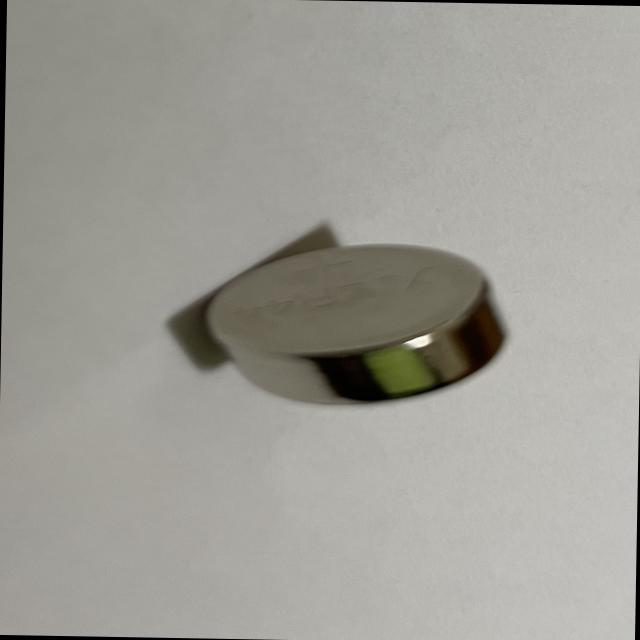COIN: (201, 239, 514, 408)
